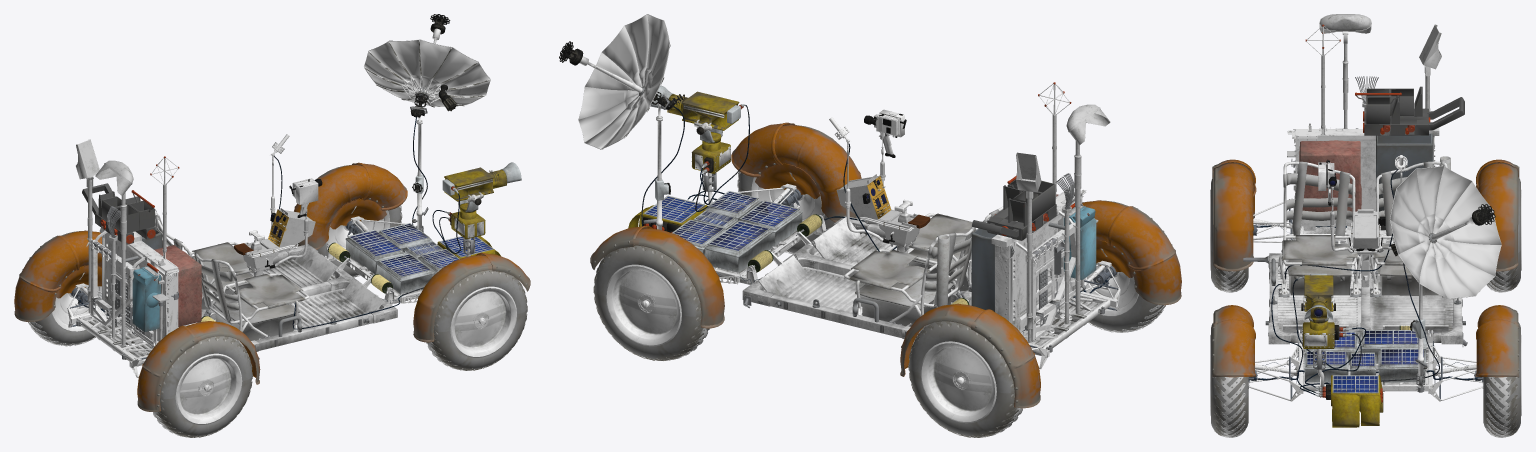
File: medium.glb
3 renders of one model, left to right at view 1: azimuth 30°, elevation 25°; view 2: azimuth 150°, elevation 25°; view 3: azimuth 270°, elevation 25°, orthographic. The views are drawn at different scales.
Parts seen in each view (by area): view 1: ApolloRoverRig__1.001_2; view 2: ApolloRoverRig__1.001_2; view 3: ApolloRoverRig__1.001_2.
Boxes of the visible parts, x1,y1,x2,y2 form: ApolloRoverRig__1.001_2: [14, 14, 530, 437]; ApolloRoverRig__1.001_2: [559, 14, 1181, 437]; ApolloRoverRig__1.001_2: [1210, 14, 1521, 437].
Size of the model in its own units: 3.1 by 1.77 by 1.78.
Materials: 9 (7 with a texture image).
